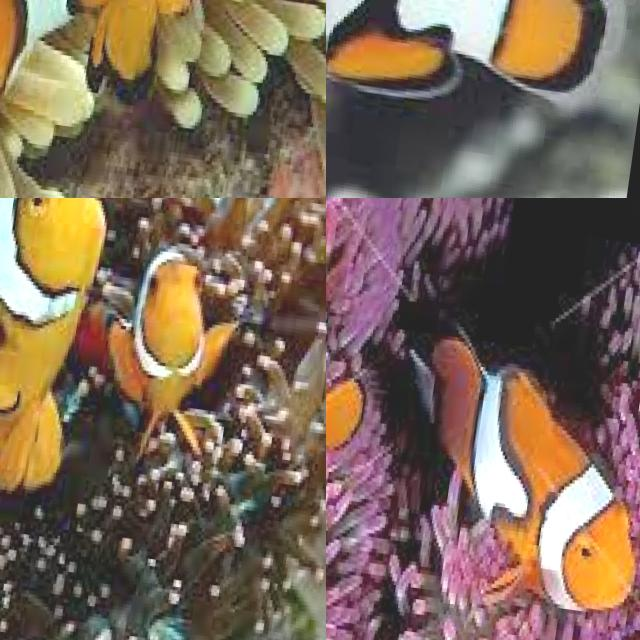Amphiprion-percula: (345, 267, 640, 640), (0, 198, 179, 597), (326, 0, 640, 198), (0, 0, 287, 198), (96, 225, 263, 482), (326, 198, 443, 521)
